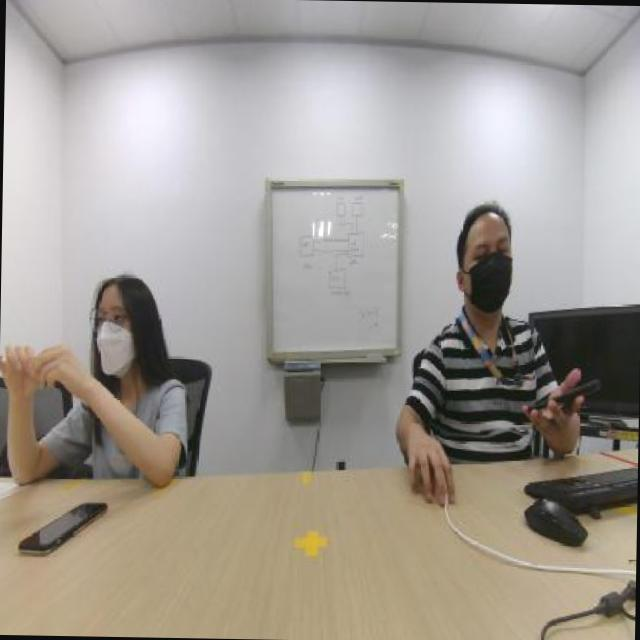Person: (17, 232, 200, 468), (402, 210, 570, 459)
